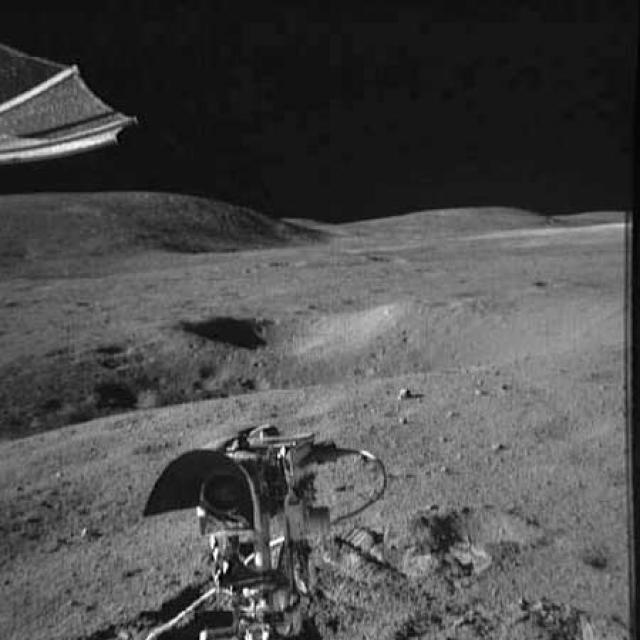crater: (170, 297, 347, 361), (401, 498, 547, 563), (522, 410, 608, 449), (72, 381, 156, 413), (128, 424, 192, 463), (576, 540, 625, 584), (91, 352, 151, 373), (257, 256, 326, 274), (232, 376, 274, 398), (86, 338, 137, 356), (359, 255, 418, 270), (192, 362, 237, 381), (522, 276, 560, 298), (442, 286, 487, 302), (357, 283, 404, 298), (56, 295, 90, 312), (349, 364, 383, 381), (8, 282, 52, 294), (396, 332, 417, 349), (363, 350, 385, 364)
rock: (388, 382, 427, 410), (74, 519, 104, 546), (484, 430, 506, 460)
